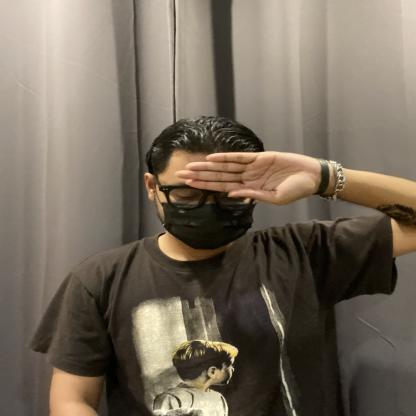Sick: (106, 126, 366, 226)
